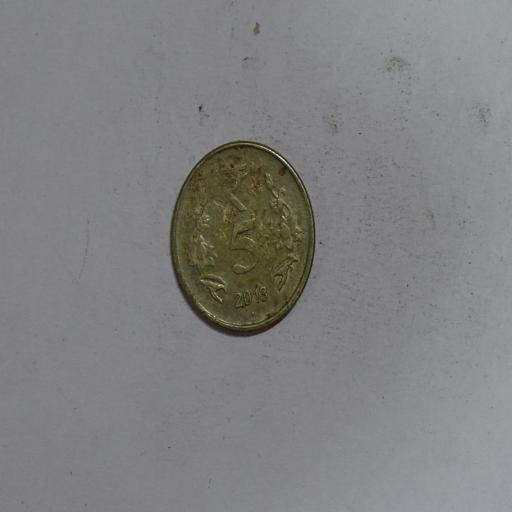rupee5: (169, 142, 315, 334)
